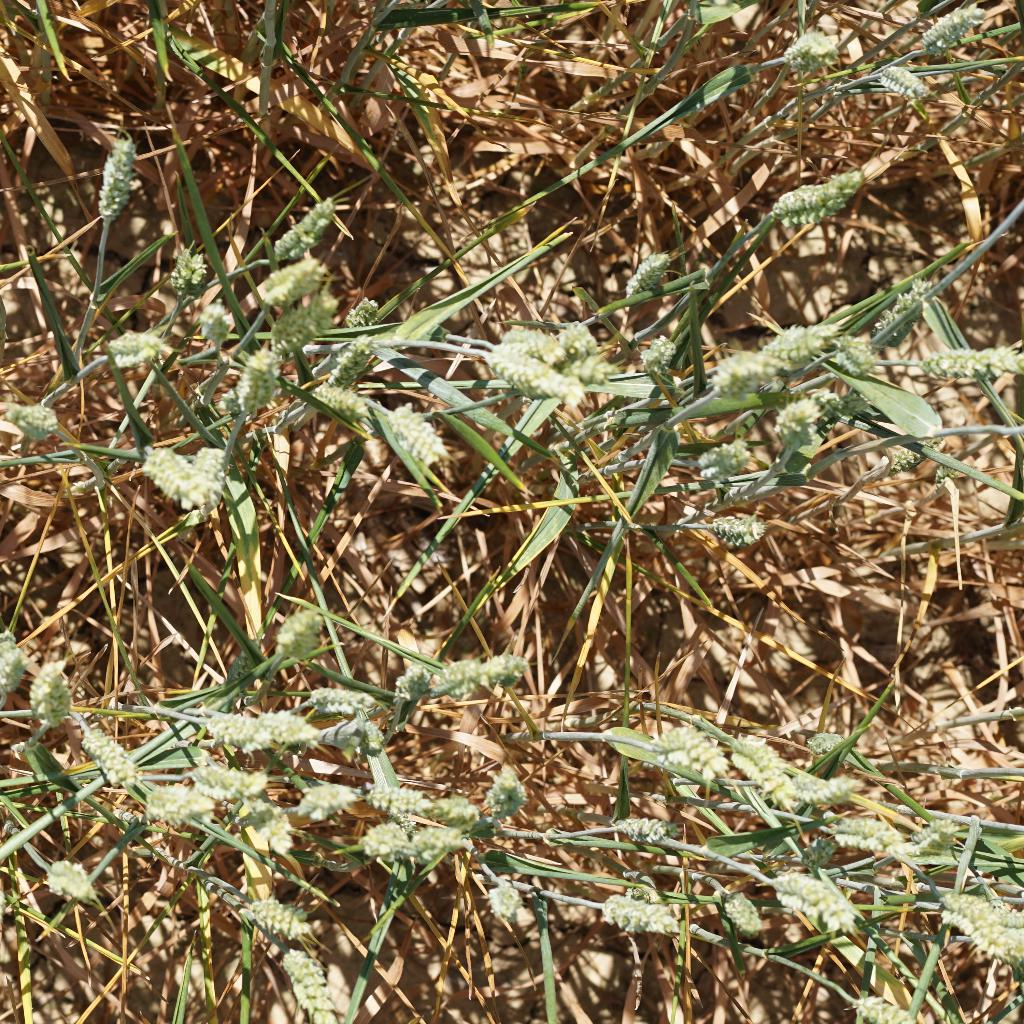0-0: (251, 280, 343, 374), (762, 166, 876, 231), (766, 858, 862, 934), (931, 887, 1021, 968), (474, 350, 591, 412), (190, 703, 326, 754), (376, 395, 456, 479), (70, 714, 154, 791), (278, 931, 347, 1024), (635, 710, 725, 781), (257, 193, 339, 265), (773, 382, 847, 458), (253, 249, 332, 320), (908, 338, 1024, 384), (871, 271, 940, 348), (490, 317, 576, 377), (225, 342, 286, 425), (837, 980, 952, 1024), (182, 746, 275, 800), (93, 133, 148, 224), (755, 314, 837, 374), (291, 677, 382, 729), (235, 794, 304, 862), (724, 720, 788, 793), (832, 807, 912, 862), (909, 4, 993, 56), (594, 892, 683, 941), (179, 443, 243, 510), (706, 343, 774, 406), (249, 884, 328, 938), (271, 602, 336, 666), (101, 325, 172, 382), (477, 646, 548, 703), (896, 810, 978, 858), (774, 761, 867, 803), (709, 877, 769, 942), (317, 333, 383, 392), (354, 815, 421, 873), (687, 432, 757, 486), (138, 437, 197, 501), (38, 854, 104, 911), (296, 763, 363, 819), (141, 778, 210, 832), (773, 26, 849, 75), (26, 653, 75, 727), (621, 246, 676, 310), (879, 428, 944, 479), (613, 806, 686, 851), (167, 238, 215, 306), (552, 301, 600, 369), (866, 62, 939, 106), (553, 347, 620, 393), (475, 870, 531, 922), (0, 392, 63, 438), (191, 299, 246, 351), (705, 507, 770, 551), (309, 377, 369, 423), (635, 322, 680, 383), (482, 765, 529, 821), (414, 818, 468, 866), (425, 653, 481, 699), (369, 772, 430, 813), (421, 789, 479, 828), (0, 621, 27, 701), (795, 832, 840, 878), (391, 662, 430, 710), (834, 339, 880, 379), (343, 293, 385, 332), (804, 728, 855, 758), (930, 460, 961, 496)
